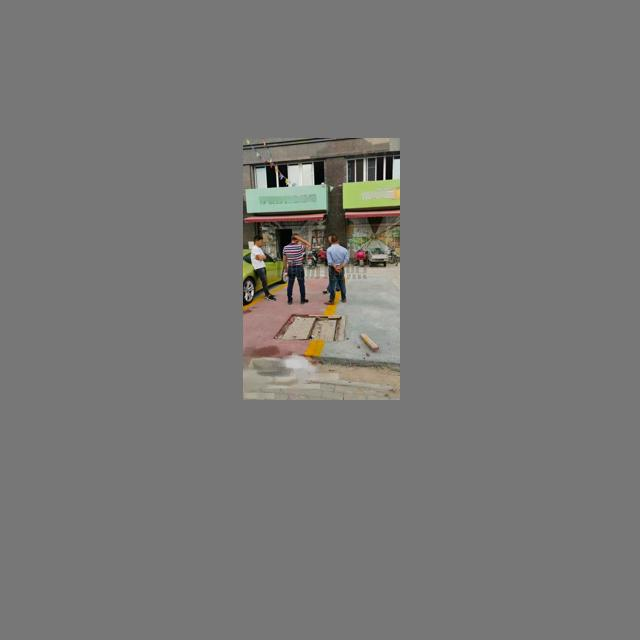circle: (276, 314, 345, 342)
